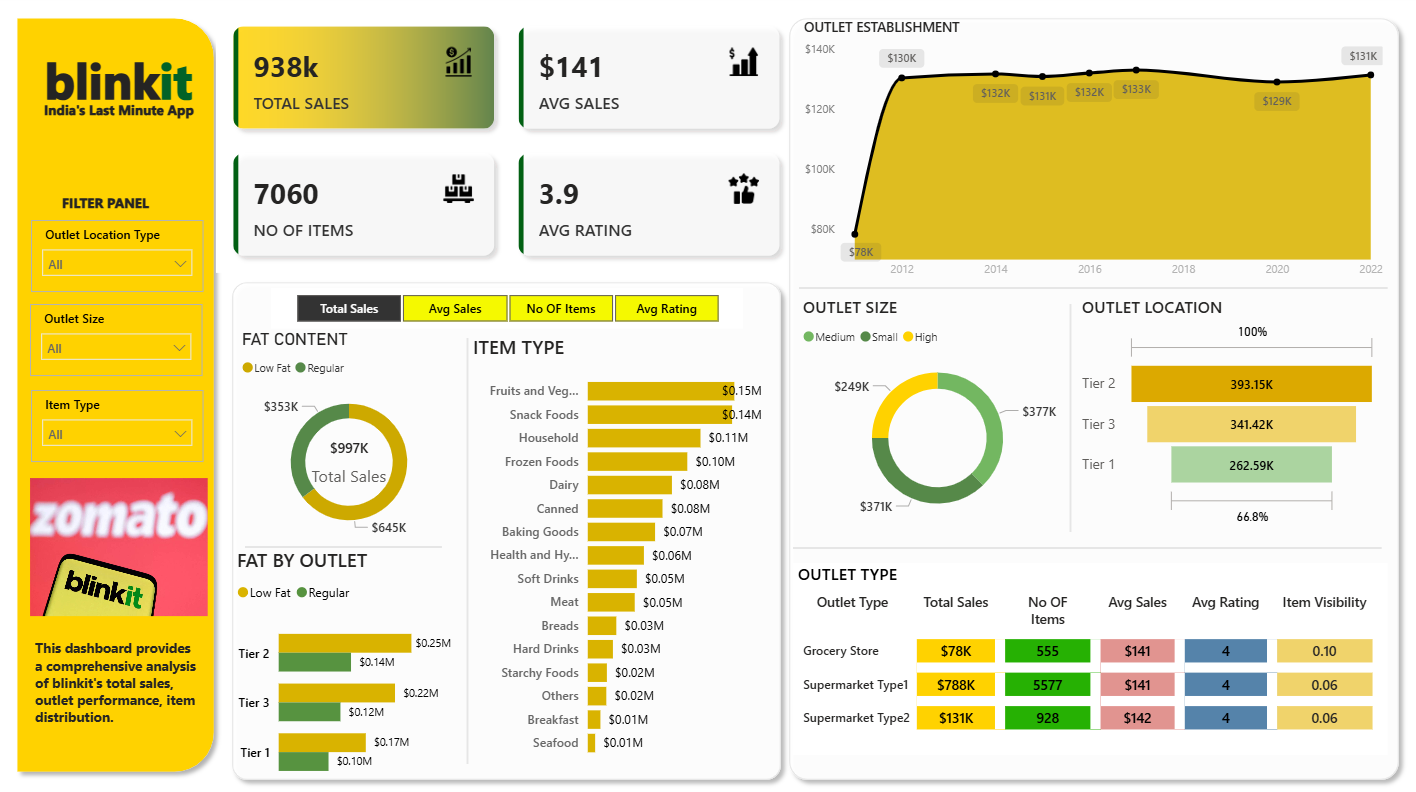

The dashboard page shown, as its layout file describes it:
{"tool":"powerbi","page":{"name":"Page 1","canvas":[1400,800],"ordinal":0},"visuals":[{"type":"shape","box":[10.8,13.8,211.8,760.6],"z":0},{"type":"textbox","box":[270.9,661.1,204.9,114.3],"z":1000},{"type":"textbox","box":[32.5,45.3,174.4,74.9],"z":2000},{"type":"textbox","box":[41.4,99.5,174.4,41.4],"z":3000},{"type":"cardVisual","fields":{"Data":["BlinkIT Grocery Data.Total Sales","BlinkIT Grocery Data.Avg Sales","BlinkIT Grocery Data.No OF Items","BlinkIT Grocery Data.Avg Rating"]},"box":[215.8,13.8,573.4,260.1],"z":4000},{"type":"shape","box":[222.7,273.9,558.6,508.4],"z":5000},{"type":"donutChart","title":"FAT CONTENT","fields":{"Y":["BlinkIT Grocery Data.Total Sales"],"Category":["BlinkIT Grocery Data.Item Fat Content"]},"box":[236.5,329.1,220.7,215.8],"z":6000},{"type":"slicer","title":"FAT CONTENT","fields":{"Values":["Metrics.Metrics"]},"box":[270,288.7,465,40.4],"z":7000},{"type":"cardVisual","fields":{"Data":["BlinkIT Grocery Data.Total Sales"]},"box":[283.7,420.7,126.1,77.8],"z":8000},{"type":"clusteredBarChart","title":"FAT BY OUTLET","fields":{"Y":["BlinkIT Grocery Data.Total Sales"],"Category":["BlinkIT Grocery Data.Outlet Location Type"],"Series":["BlinkIT Grocery Data.Item Fat Content"]},"box":[231.5,543.8,220.7,247.3],"z":9000},{"type":"shape","box":[244.3,528.1,194.1,31.5],"z":10000},{"type":"shape","box":[457.1,337.9,12.8,419.7],"z":11000},{"type":"barChart","title":"ITEM TYPE","fields":{"Y":["BlinkIT Grocery Data.Total Sales"],"Category":["BlinkIT Grocery Data.Item Type"]},"box":[464,334,294.6,426.6],"z":12000},{"type":"shape","box":[771.4,13.8,618.7,768.5],"z":13000},{"type":"lineChart","title":"OUTLET ESTABLISHMENT","fields":{"Category":["BlinkIT Grocery Data.Outlet Establishment Year"],"Y":["BlinkIT Grocery Data.Total Sales"]},"box":[790.1,22.7,580.3,266],"z":14000},{"type":"shape","box":[790.1,272.9,580.3,31.5],"z":15000},{"type":"donutChart","title":"OUTLET SIZE","fields":{"Y":["BlinkIT Grocery Data.Total Sales"],"Category":["BlinkIT Grocery Data.Outlet Size"]},"box":[789.2,296.6,274.9,231.5],"z":16000},{"type":"shape","box":[1051.2,304.4,12.8,224.6],"z":17000},{"type":"funnel","title":"OUTLET LOCATION","fields":{"Y":["Sum(BlinkIT Grocery Data.Sales)"],"Category":["BlinkIT Grocery Data.Outlet Location Type"]},"box":[1064,296.6,300.5,231.5],"z":18000},{"type":"shape","box":[784.2,529.1,580.3,31.5],"z":19000},{"type":"pivotTable","title":"OUTLET TYPE","fields":{"Rows":["BlinkIT Grocery Data.Outlet Type"],"Values":["BlinkIT Grocery Data.Total Sales","BlinkIT Grocery Data.No OF Items","BlinkIT Grocery Data.Avg Sales","BlinkIT Grocery Data.Avg Rating","Avg(BlinkIT Grocery Data.Item Visibility)"]},"box":[784.2,559.6,586.2,189.2],"z":20000},{"type":"slicer","fields":{"Values":["BlinkIT Grocery Data.Outlet Location Type"]},"box":[33.5,221.7,170.4,70.9],"z":21000},{"type":"slicer","fields":{"Values":["BlinkIT Grocery Data.Outlet Size"]},"box":[32.5,304.4,170.4,70.9],"z":22000},{"type":"slicer","fields":{"Values":["BlinkIT Grocery Data.Item Type"]},"box":[33.5,389.2,170.4,70.9],"z":23000},{"type":"textbox","box":[59.1,191.1,121.2,30.5],"z":24000},{"type":"image","box":[27.6,470.9,185.2,145.8],"z":25000},{"type":"textbox","box":[32.5,629.6,172.4,119.2],"z":26000}]}

Visuals, with their boxes in screenshot pixels (x1, y1, x2, y2), scaled from the page's 1400x800 canvas onto the 1416x792 screenshot:
shape: {"x1": 11, "y1": 14, "x2": 225, "y2": 767}
textbox: {"x1": 274, "y1": 654, "x2": 481, "y2": 768}
textbox: {"x1": 33, "y1": 45, "x2": 209, "y2": 119}
textbox: {"x1": 42, "y1": 99, "x2": 218, "y2": 139}
cardVisual - BlinkIT Grocery Data.Total Sales x BlinkIT Grocery Data.Avg Sales: {"x1": 218, "y1": 14, "x2": 798, "y2": 271}
shape: {"x1": 225, "y1": 271, "x2": 790, "y2": 774}
"FAT CONTENT" donutChart: {"x1": 239, "y1": 326, "x2": 462, "y2": 539}
"FAT CONTENT" slicer: {"x1": 273, "y1": 286, "x2": 743, "y2": 326}
cardVisual - BlinkIT Grocery Data.Total Sales: {"x1": 287, "y1": 416, "x2": 414, "y2": 494}
"FAT BY OUTLET" clusteredBarChart: {"x1": 234, "y1": 538, "x2": 457, "y2": 783}
shape: {"x1": 247, "y1": 523, "x2": 443, "y2": 554}
shape: {"x1": 462, "y1": 335, "x2": 475, "y2": 750}
"ITEM TYPE" barChart: {"x1": 469, "y1": 331, "x2": 767, "y2": 753}
shape: {"x1": 780, "y1": 14, "x2": 1406, "y2": 774}
"OUTLET ESTABLISHMENT" lineChart: {"x1": 799, "y1": 22, "x2": 1386, "y2": 286}
shape: {"x1": 799, "y1": 270, "x2": 1386, "y2": 301}
"OUTLET SIZE" donutChart: {"x1": 798, "y1": 294, "x2": 1076, "y2": 523}
shape: {"x1": 1063, "y1": 301, "x2": 1076, "y2": 524}
"OUTLET LOCATION" funnel: {"x1": 1076, "y1": 294, "x2": 1380, "y2": 523}
shape: {"x1": 793, "y1": 524, "x2": 1380, "y2": 555}
"OUTLET TYPE" pivotTable: {"x1": 793, "y1": 554, "x2": 1386, "y2": 741}
slicer - BlinkIT Grocery Data.Outlet Location Type: {"x1": 34, "y1": 219, "x2": 206, "y2": 290}
slicer - BlinkIT Grocery Data.Outlet Size: {"x1": 33, "y1": 301, "x2": 205, "y2": 372}
slicer - BlinkIT Grocery Data.Item Type: {"x1": 34, "y1": 385, "x2": 206, "y2": 455}
textbox: {"x1": 60, "y1": 189, "x2": 182, "y2": 219}
image: {"x1": 28, "y1": 466, "x2": 215, "y2": 611}
textbox: {"x1": 33, "y1": 623, "x2": 207, "y2": 741}
